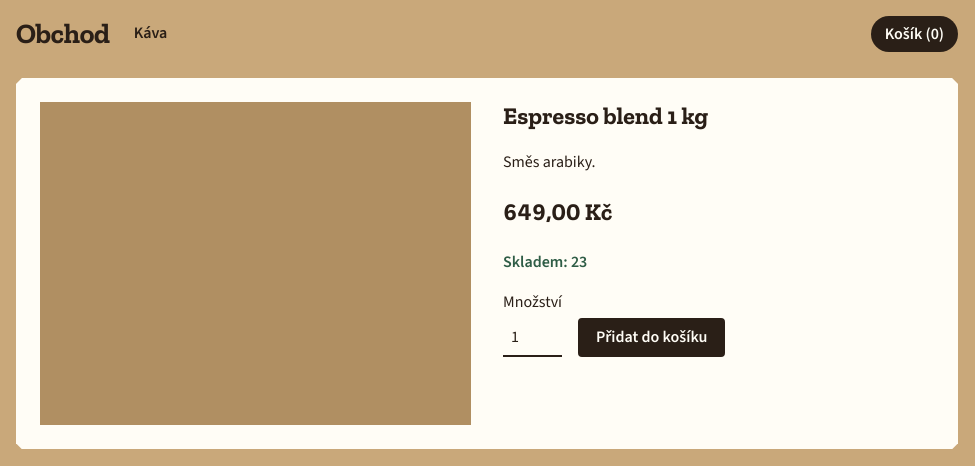
Scenario: does not confirm an empty quantity
The width and height of the screenshot is (975, 466).
expect the heading "Espresso blend 1 kg" is shown: met, box top-left (503, 101), bottom-right (708, 130)
Step 1. Clear the number field labelled "Množství" → [533, 338], box top-left (503, 318), bottom-right (562, 357)
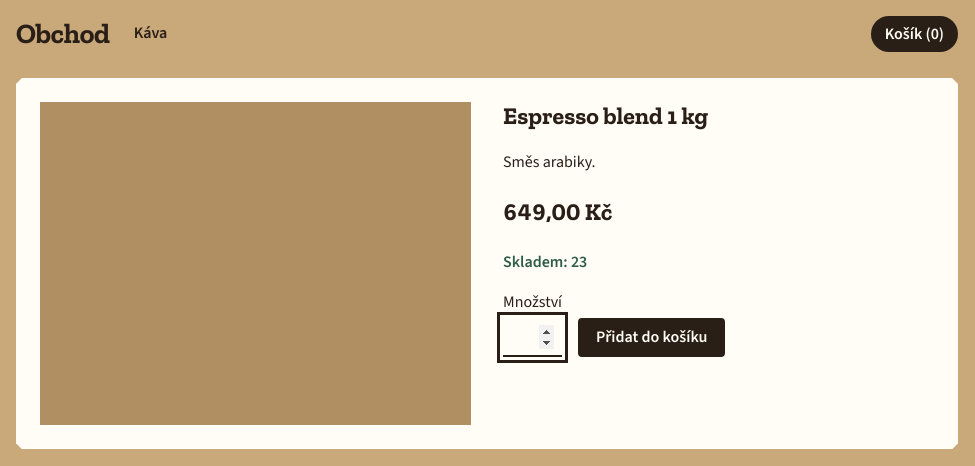
Step 2. Click the button "Přidat do košíku" → [652, 338], box top-left (578, 318), bottom-right (725, 357)
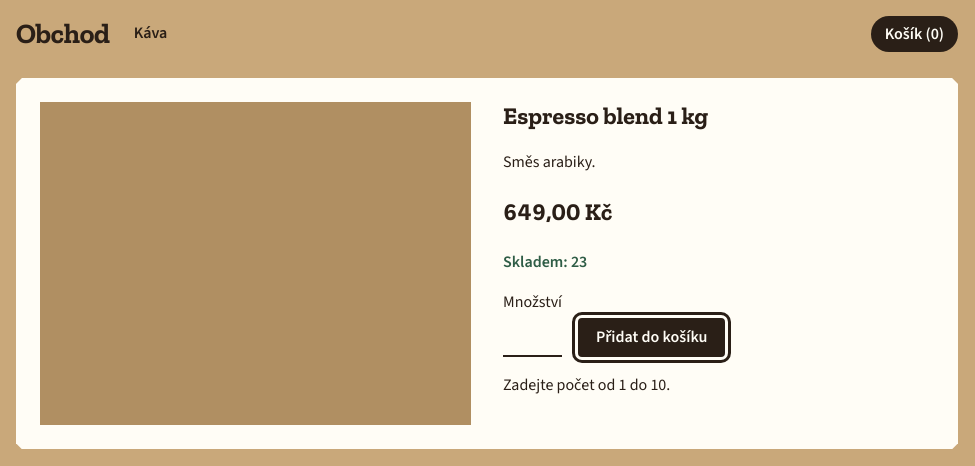
expect the link "Košík (0)" is shown: met, box top-left (871, 16), bottom-right (958, 52)
expect the text "Zadejte počet od 1 do 10." is shown: met, box top-left (503, 374), bottom-right (670, 396)
